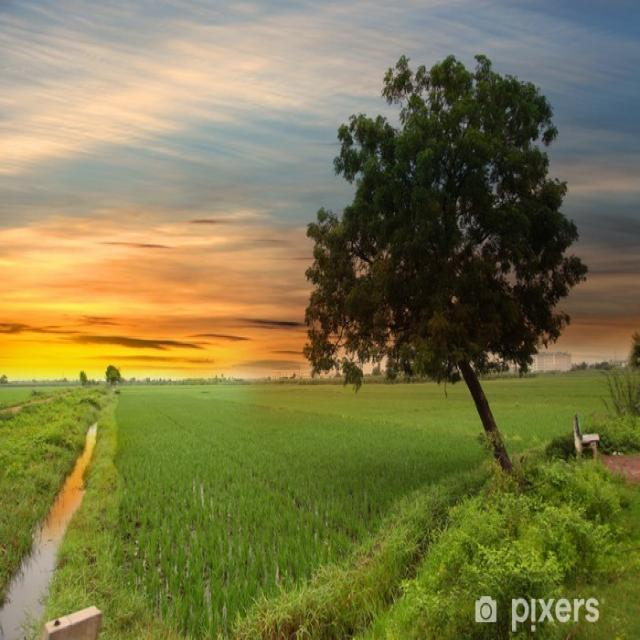tree: (304, 41, 588, 469)
